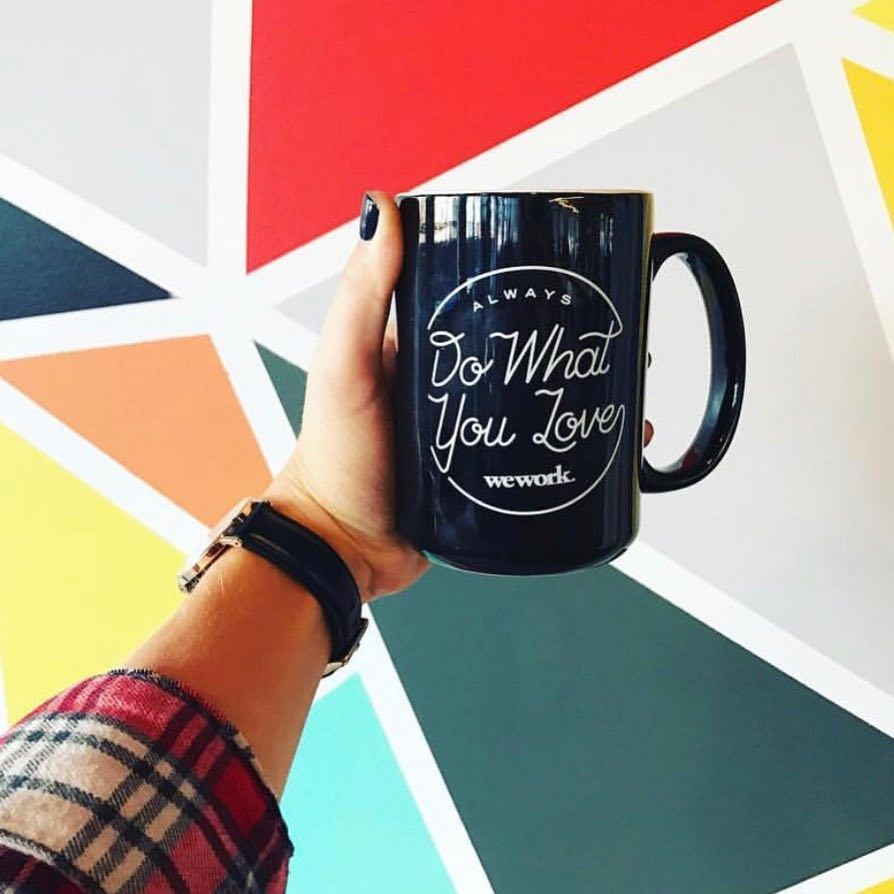wework: (481, 463, 571, 492)
